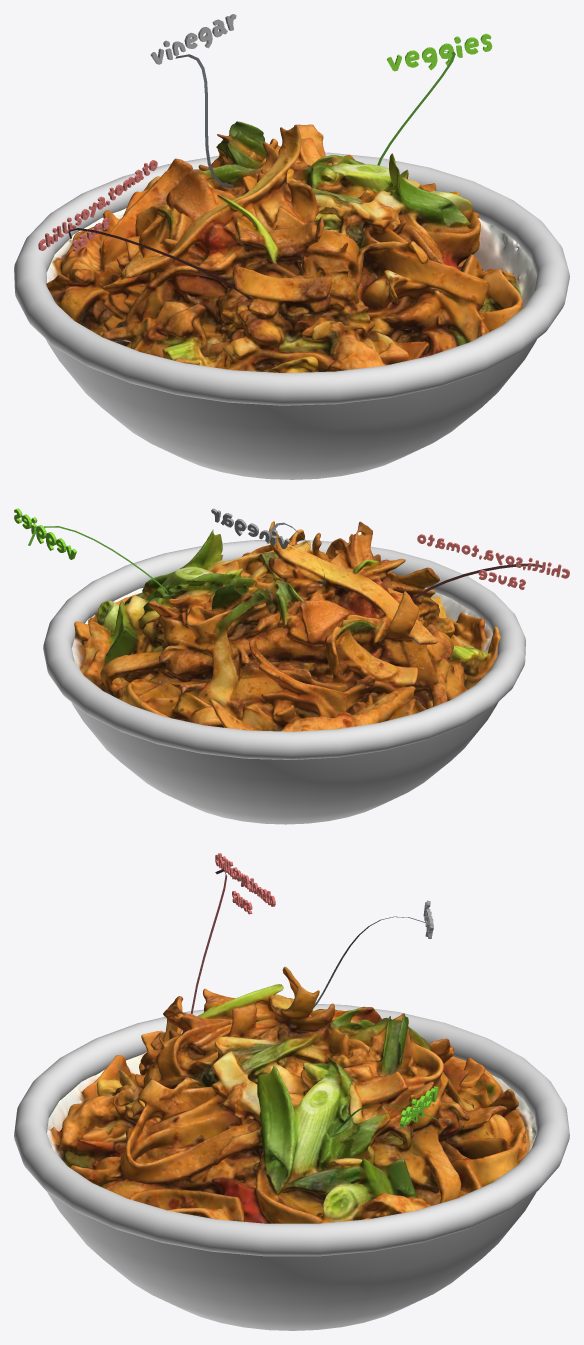
Rendered from pasta.glb.
3 renders of one model, top to bottom at view 1: azimuth 30°, elevation 25°; view 2: azimuth 150°, elevation 25°; view 3: azimuth 270°, elevation 25°, orthographic. The views are drawn at different scales.
Visible parts, largest first — view 1: defaultobject, bowl, Text.001, Text, Text.002, BézierCurve.001; view 2: defaultobject, bowl, Text.001, Text, Text.002; view 3: defaultobject, bowl, Text.001, Text.
Boxes of the visible parts, box(x1,y1,x2,y2) form: defaultobject: box(46, 121, 536, 372); bowl: box(14, 152, 569, 479); Text.001: box(38, 160, 157, 251); Text: box(387, 33, 492, 71); Text.002: box(150, 14, 236, 64); BézierCurve.001: box(68, 228, 251, 299); defaultobject: box(72, 521, 500, 731); bowl: box(43, 539, 525, 824); Text.001: box(417, 534, 569, 589); Text: box(14, 508, 76, 559); Text.002: box(211, 508, 289, 548); defaultobject: box(47, 966, 536, 1223); bowl: box(14, 1004, 569, 1330); Text.001: box(215, 853, 275, 914); Text: box(400, 1086, 438, 1127).
Size of the model in its own units: 0.7688 by 0.4932 by 0.6779.
8 materials, 1 textured.
